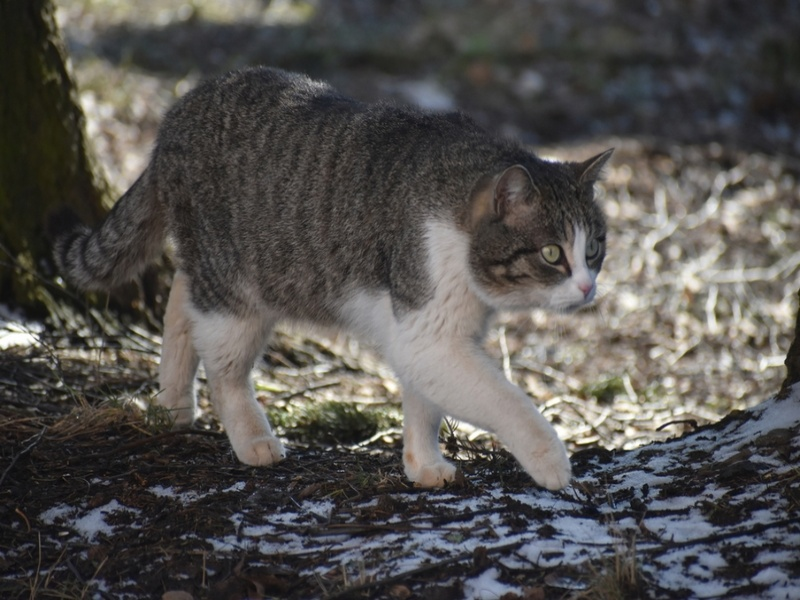cat: (40, 51, 618, 508)
